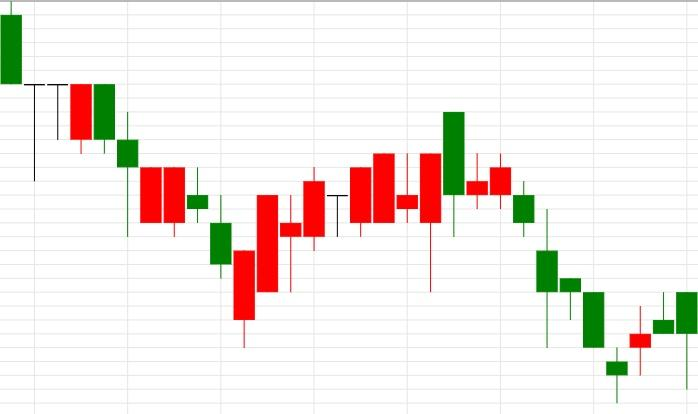evening_star_fall: (513, 181, 651, 404)
